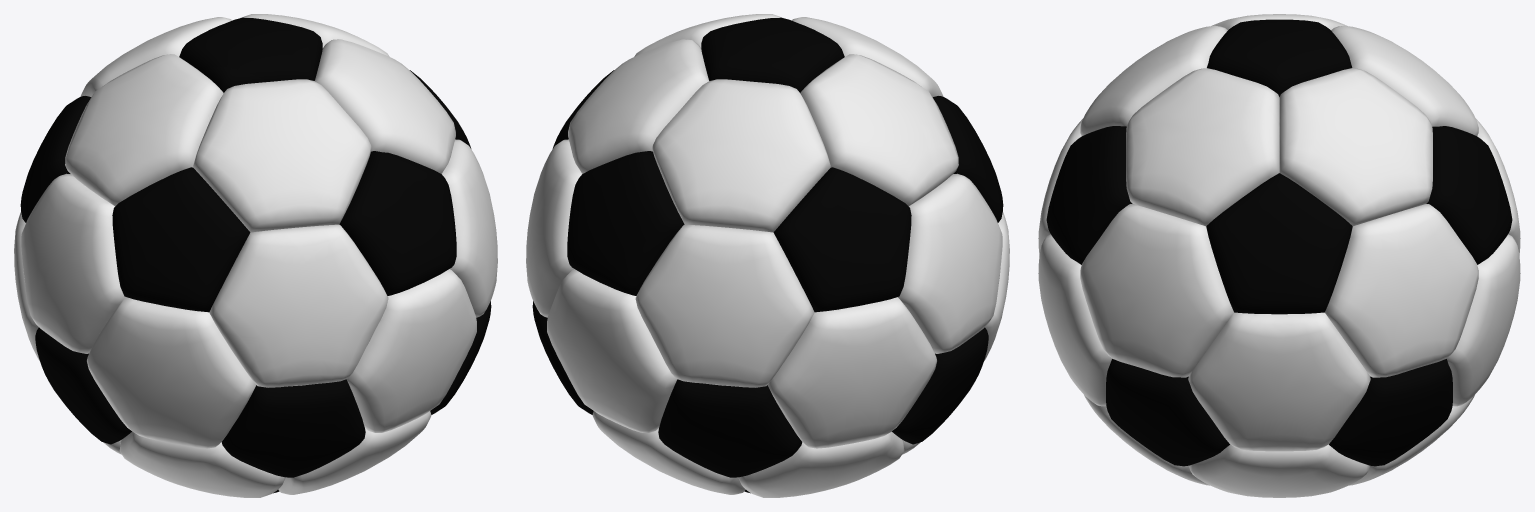
Rendered from ball.glb.
The picture shows the model from 3 angles, left to right: view 1: azimuth 30°, elevation 25°; view 2: azimuth 150°, elevation 25°; view 3: azimuth 270°, elevation 25°; orthographic projection.
Parts seen in each view (by area): view 1: Icosphere.001_0; view 2: Icosphere.001_0; view 3: Icosphere.001_0.
Part boxes in pixels (bbox=[...]): Icosphere.001_0: bbox=[14, 14, 497, 497]; Icosphere.001_0: bbox=[526, 14, 1009, 497]; Icosphere.001_0: bbox=[1038, 14, 1520, 497].
Bounding box in the file's own units: 0.22 × 0.2203 × 0.2191.
Materials: 1 (1 with a texture image).
